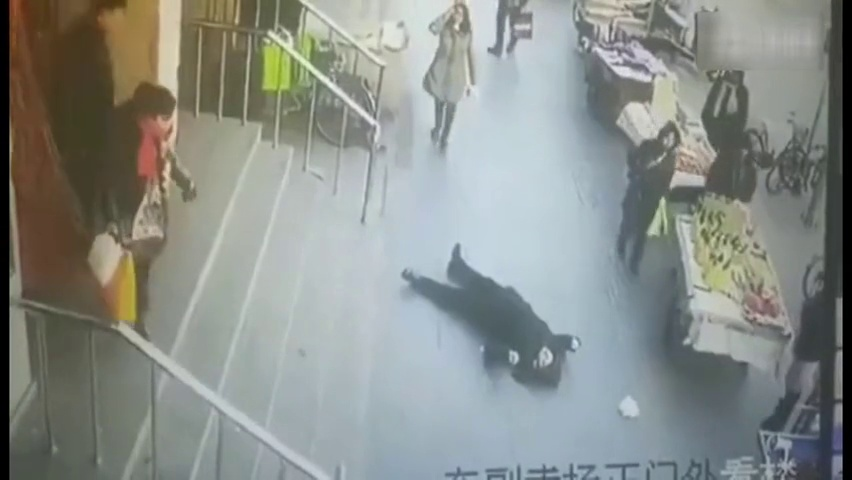fall: (401, 242, 584, 399)
nofall: (83, 88, 194, 327), (616, 120, 678, 278), (422, 1, 482, 150), (703, 63, 746, 148)
